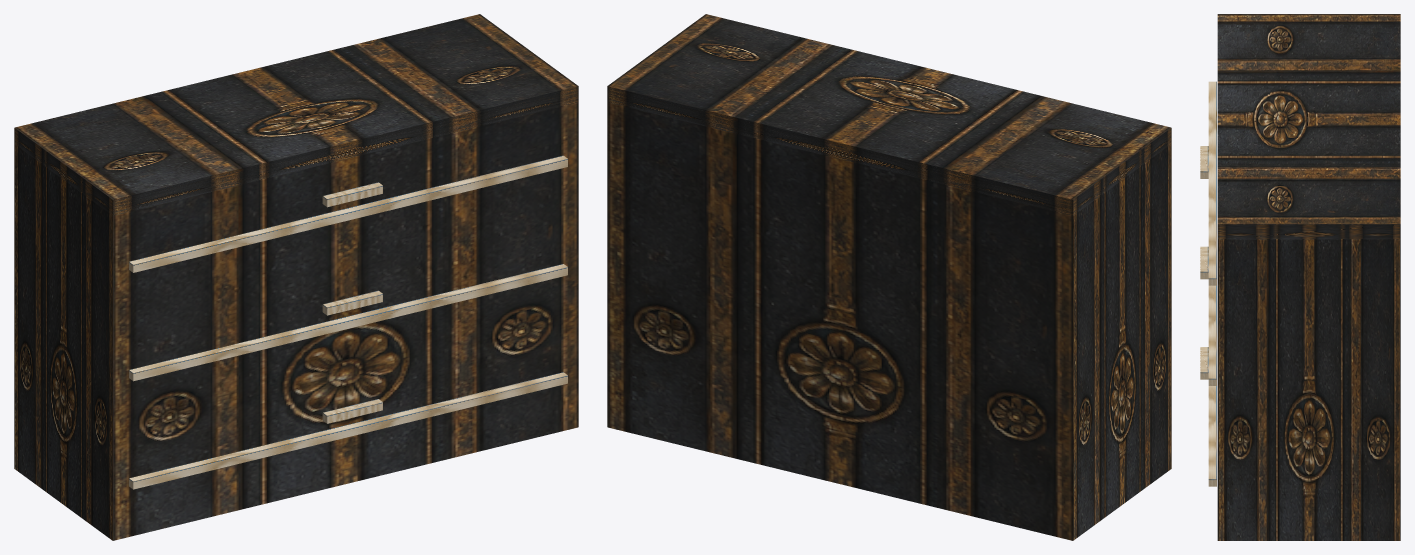
File: dresser.gltf
3 renders of one model, left to right at view 1: azimuth 30°, elevation 25°; view 2: azimuth 150°, elevation 25°; view 3: azimuth 270°, elevation 25°, orthographic. The views are drawn at different scales.
Parts seen in each view (by area): view 1: kit:0:furniture:mahogany:, kit:0:furniture:gold:; view 2: kit:0:furniture:mahogany:; view 3: kit:0:furniture:mahogany:, kit:0:furniture:gold:.
Boxes of the visible parts, box(x1,y1,x2,y2) form: kit:0:furniture:mahogany:: box(14, 14, 578, 540); kit:0:furniture:gold:: box(129, 155, 567, 489); kit:0:furniture:mahogany:: box(607, 14, 1171, 540); kit:0:furniture:mahogany:: box(1217, 14, 1400, 540); kit:0:furniture:gold:: box(1200, 81, 1216, 486).
Size of the model in its own units: 1.5 by 1.05 by 0.6025.
2 materials, 2 textured.
